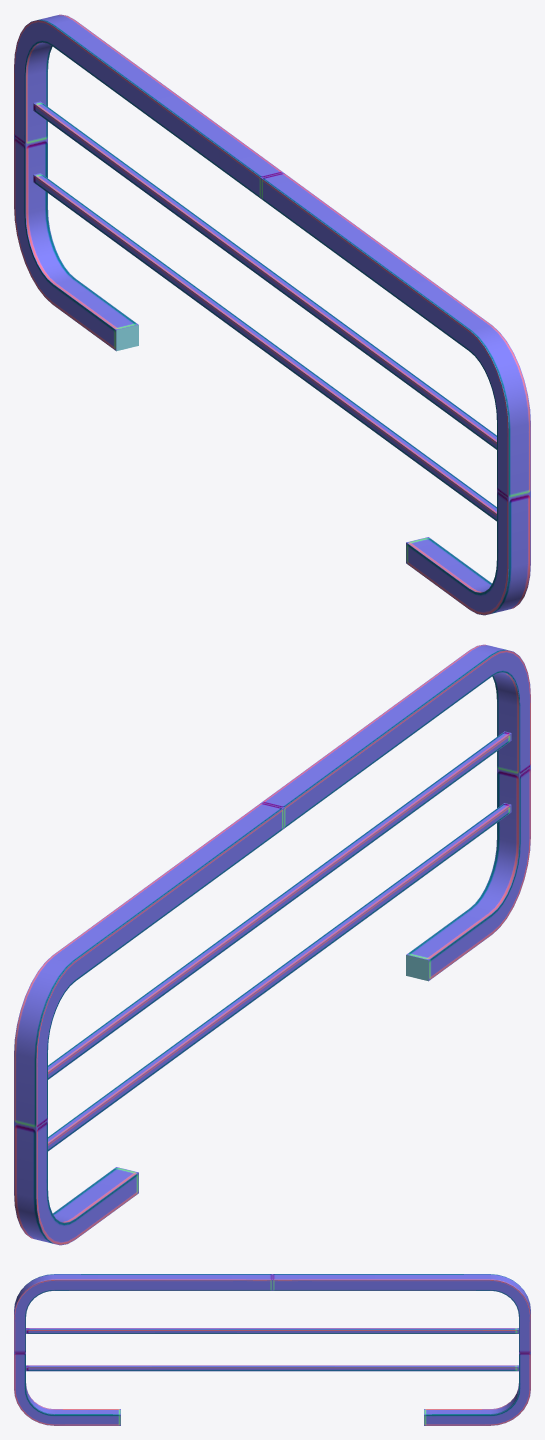
Rendered from Fence_01.FBX.
The picture shows the model from 3 angles, top to bottom: view 1: azimuth 30°, elevation 25°; view 2: azimuth 150°, elevation 25°; view 3: azimuth 270°, elevation 25°; orthographic projection. The views are drawn at different scales.
Visible parts, largest first — view 1: Fence_01; view 2: Fence_01; view 3: Fence_01.
Boxes of the visible parts, <box> form: Fence_01: <box>14,14,530,615</box>; Fence_01: <box>14,644,530,1245</box>; Fence_01: <box>14,1274,530,1425</box>.
Bounding box in the file's own units: 0.0968 × 1.15 × 3.69.
Materials: 2 (1 with a texture image).
